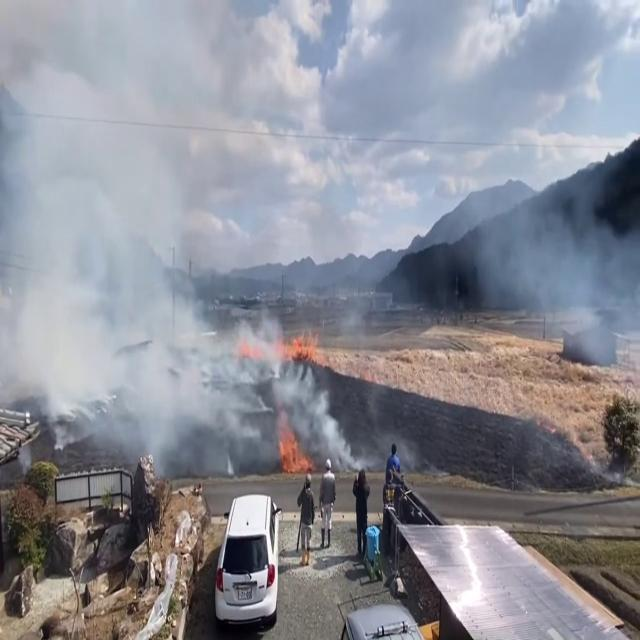Fire: (272, 408, 314, 477), (276, 324, 328, 368)
Smoke: (0, 0, 330, 453), (471, 135, 640, 382)
